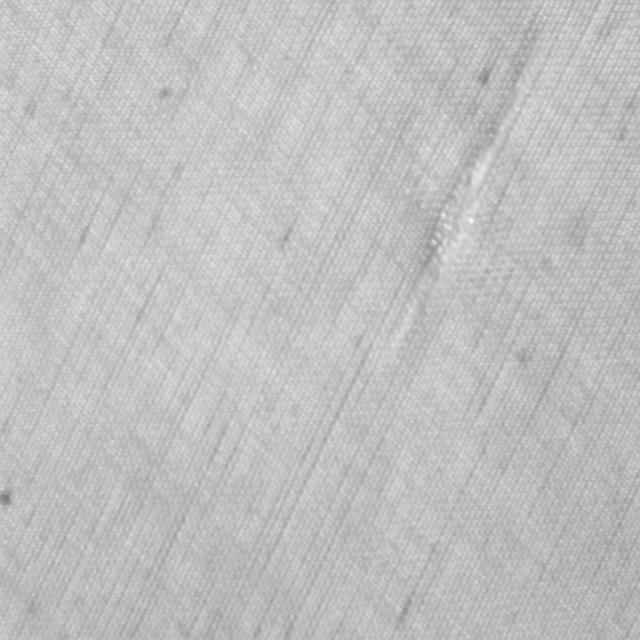thread error: (416, 120, 501, 290)
